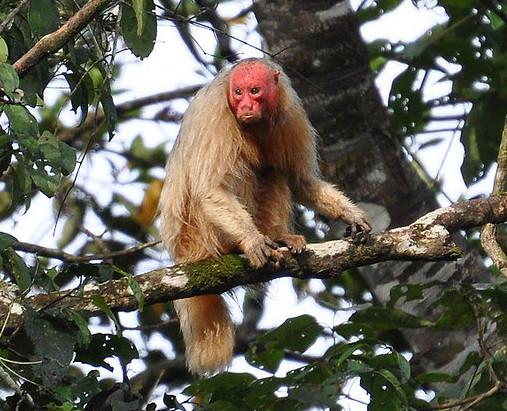monkey: (161, 59, 374, 268)
